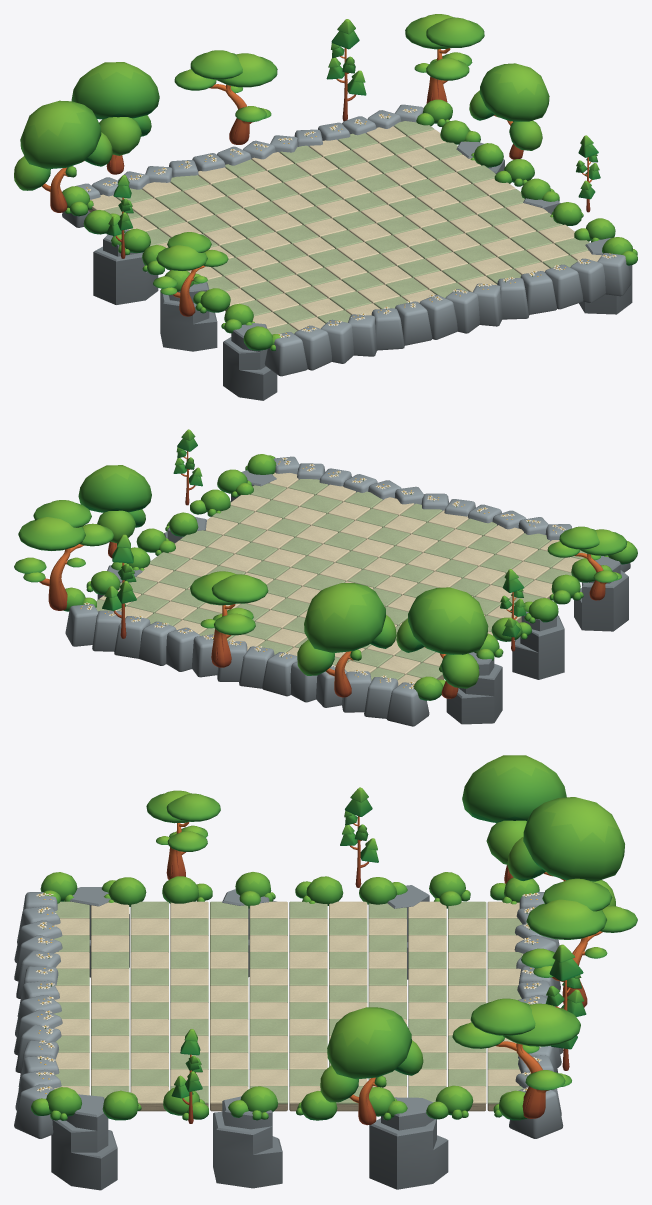
Rendered from forest_stage.glb.
The picture shows the model from 3 angles, top to bottom: view 1: azimuth 30°, elevation 25°; view 2: azimuth 150°, elevation 25°; view 3: azimuth 270°, elevation 25°; orthographic projection. The views are drawn at different scales.
Parts seen in each view (by area): view 1: Tree_1_C_Color1.001, Tree_1_C_Color1.003, Tree_1_C_Color1.002, Tree_3_C_Color1.003, Tree_3_C_Color1.001, Rock_1_D_Color1.003, Tree_3_C_Color1.002, Rock_1_D_Color1.001, Rock_1_D_Color1.002, Tree_4_C_Color1.003, Rock_2_C_Color1.001, Rock_2_C_Color1.011 (+29 smaller); view 2: Tree_1_C_Color1.003, Tree_1_C_Color1.001, Tree_3_C_Color1.001, Tree_1_C_Color1.002, Tree_3_C_Color1.003, Rock_1_D_Color1.002, Tree_3_C_Color1.002, Rock_1_D_Color1.003, Rock_1_D_Color1.001, Tree_4_C_Color1.003, Rock_2_C_Color1.002, Rock_2_C_Color1.028 (+91 smaller); view 3: Tree_1_C_Color1.003, Tree_1_C_Color1.002, Tree_3_C_Color1.001, Tree_1_C_Color1.001, Tree_3_C_Color1.003, Rock_1_D_Color1.006, Rock_1_D_Color1.004, Rock_1_D_Color1.005, Tree_3_C_Color1.002, Tree_4_C_Color1.003, Tree_4_C_Color1.001, Rock_2_C_Color1.027 (+116 smaller).
Boxes of the visible parts, x1,y1,x2,y2 form: Tree_1_C_Color1.001: (14, 100, 112, 212); Tree_1_C_Color1.003: (71, 62, 159, 174); Tree_1_C_Color1.002: (469, 63, 549, 159); Tree_3_C_Color1.003: (174, 50, 277, 144); Tree_3_C_Color1.001: (405, 14, 484, 103); Rock_1_D_Color1.003: (93, 229, 158, 304); Tree_3_C_Color1.002: (153, 232, 228, 316); Rock_1_D_Color1.001: (223, 322, 277, 400); Rock_1_D_Color1.002: (160, 282, 217, 351); Tree_4_C_Color1.003: (326, 19, 366, 121); Rock_2_C_Color1.001: (264, 332, 307, 376); Rock_2_C_Color1.011: (395, 301, 432, 345); Tree_1_C_Color1.003: (297, 583, 396, 697); Tree_1_C_Color1.001: (396, 587, 488, 698); Tree_3_C_Color1.001: (14, 500, 113, 610); Tree_1_C_Color1.002: (78, 465, 151, 558); Tree_3_C_Color1.003: (190, 571, 268, 667); Rock_1_D_Color1.002: (512, 601, 564, 679); Tree_3_C_Color1.002: (547, 526, 627, 600); Rock_1_D_Color1.003: (446, 652, 502, 724); Rock_1_D_Color1.001: (574, 556, 628, 631); Tree_4_C_Color1.003: (102, 534, 136, 638); Rock_2_C_Color1.002: (386, 682, 429, 726); Rock_2_C_Color1.028: (65, 604, 98, 646); Tree_1_C_Color1.003: (507, 797, 624, 906); Tree_1_C_Color1.002: (320, 1007, 423, 1125); Tree_3_C_Color1.001: (452, 998, 580, 1118); Tree_1_C_Color1.001: (462, 755, 566, 883); Tree_3_C_Color1.003: (521, 878, 637, 1007); Rock_1_D_Color1.006: (369, 1097, 448, 1189); Rock_1_D_Color1.004: (51, 1094, 117, 1190); Rock_1_D_Color1.005: (213, 1096, 282, 1188); Tree_3_C_Color1.002: (146, 790, 220, 879); Tree_4_C_Color1.003: (545, 944, 586, 1070); Tree_4_C_Color1.001: (340, 787, 378, 887); Rock_2_C_Color1.027: (14, 1084, 54, 1138).
Bounding box in the file's own units: 16.49 × 5.52 × 15.73.
13 materials, 10 textured.
